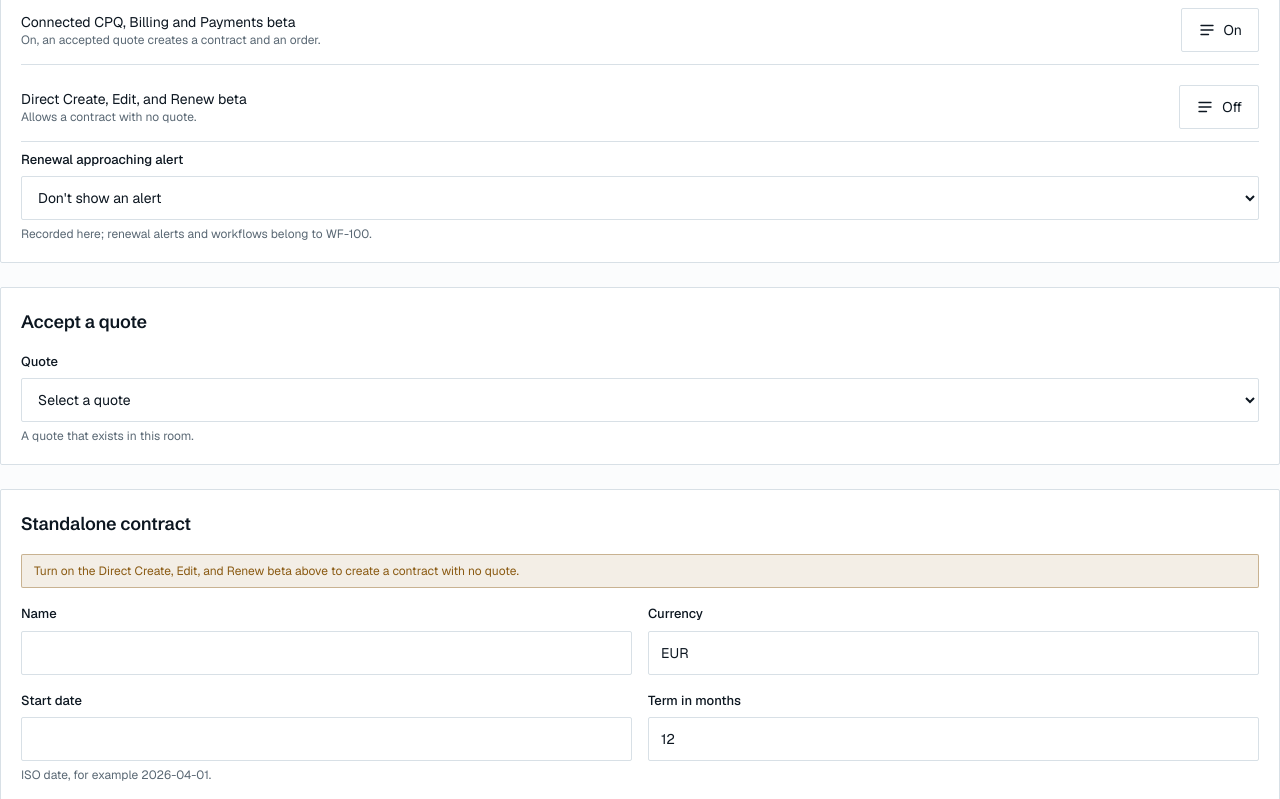
Test case: the page › warns that a legacy quote creates no contract and disables acceptance
(page scrolled)
Step 1. Select "Adventure Works historic" in the dropdown labelled "Quote" → (640, 400), box [21,378,1259,422]
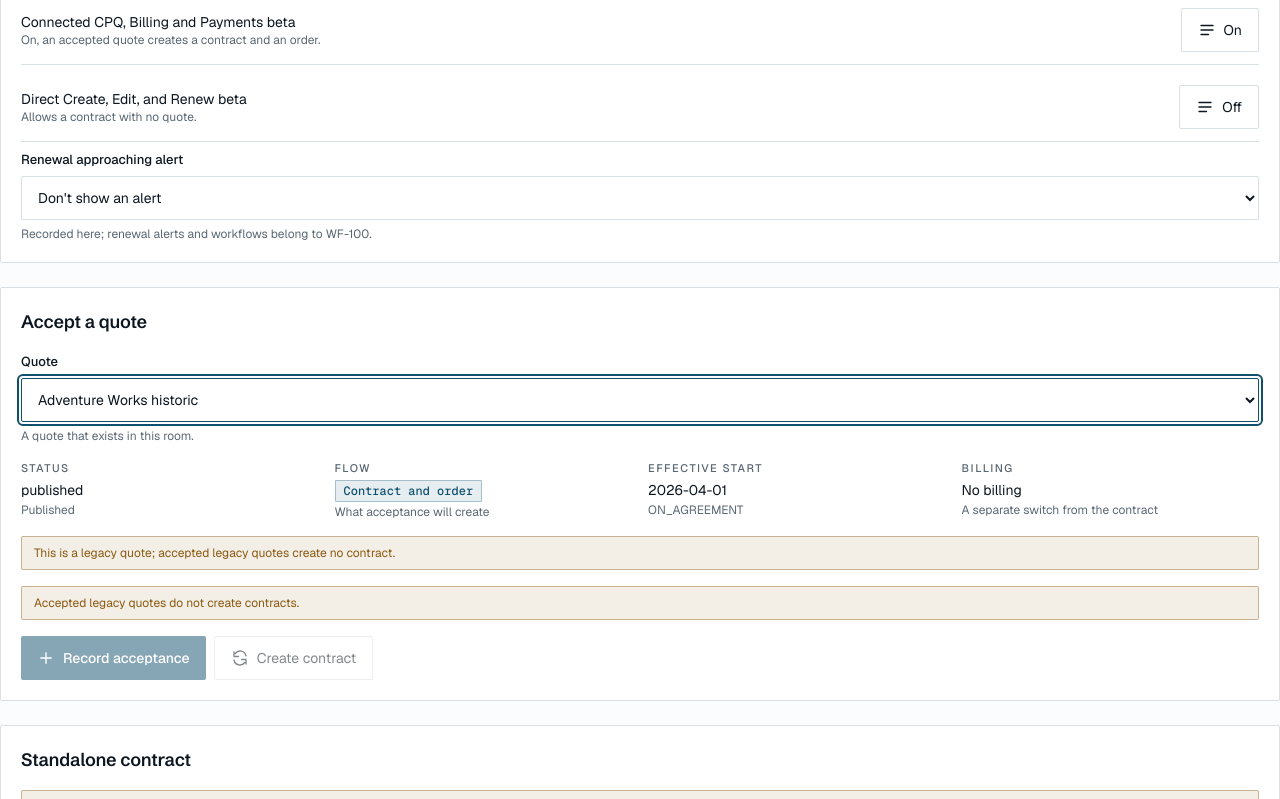
Now the text "Accepted legacy quotes do not create contracts." is shown, box [21,586,1259,620]
Now the button "Record acceptance" is disabled, box [21,636,206,680]
